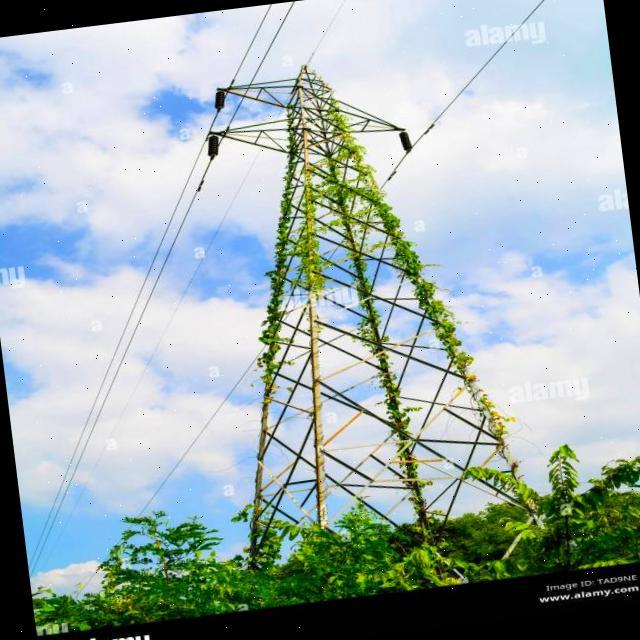critical vegetation: (149, 34, 510, 283)
